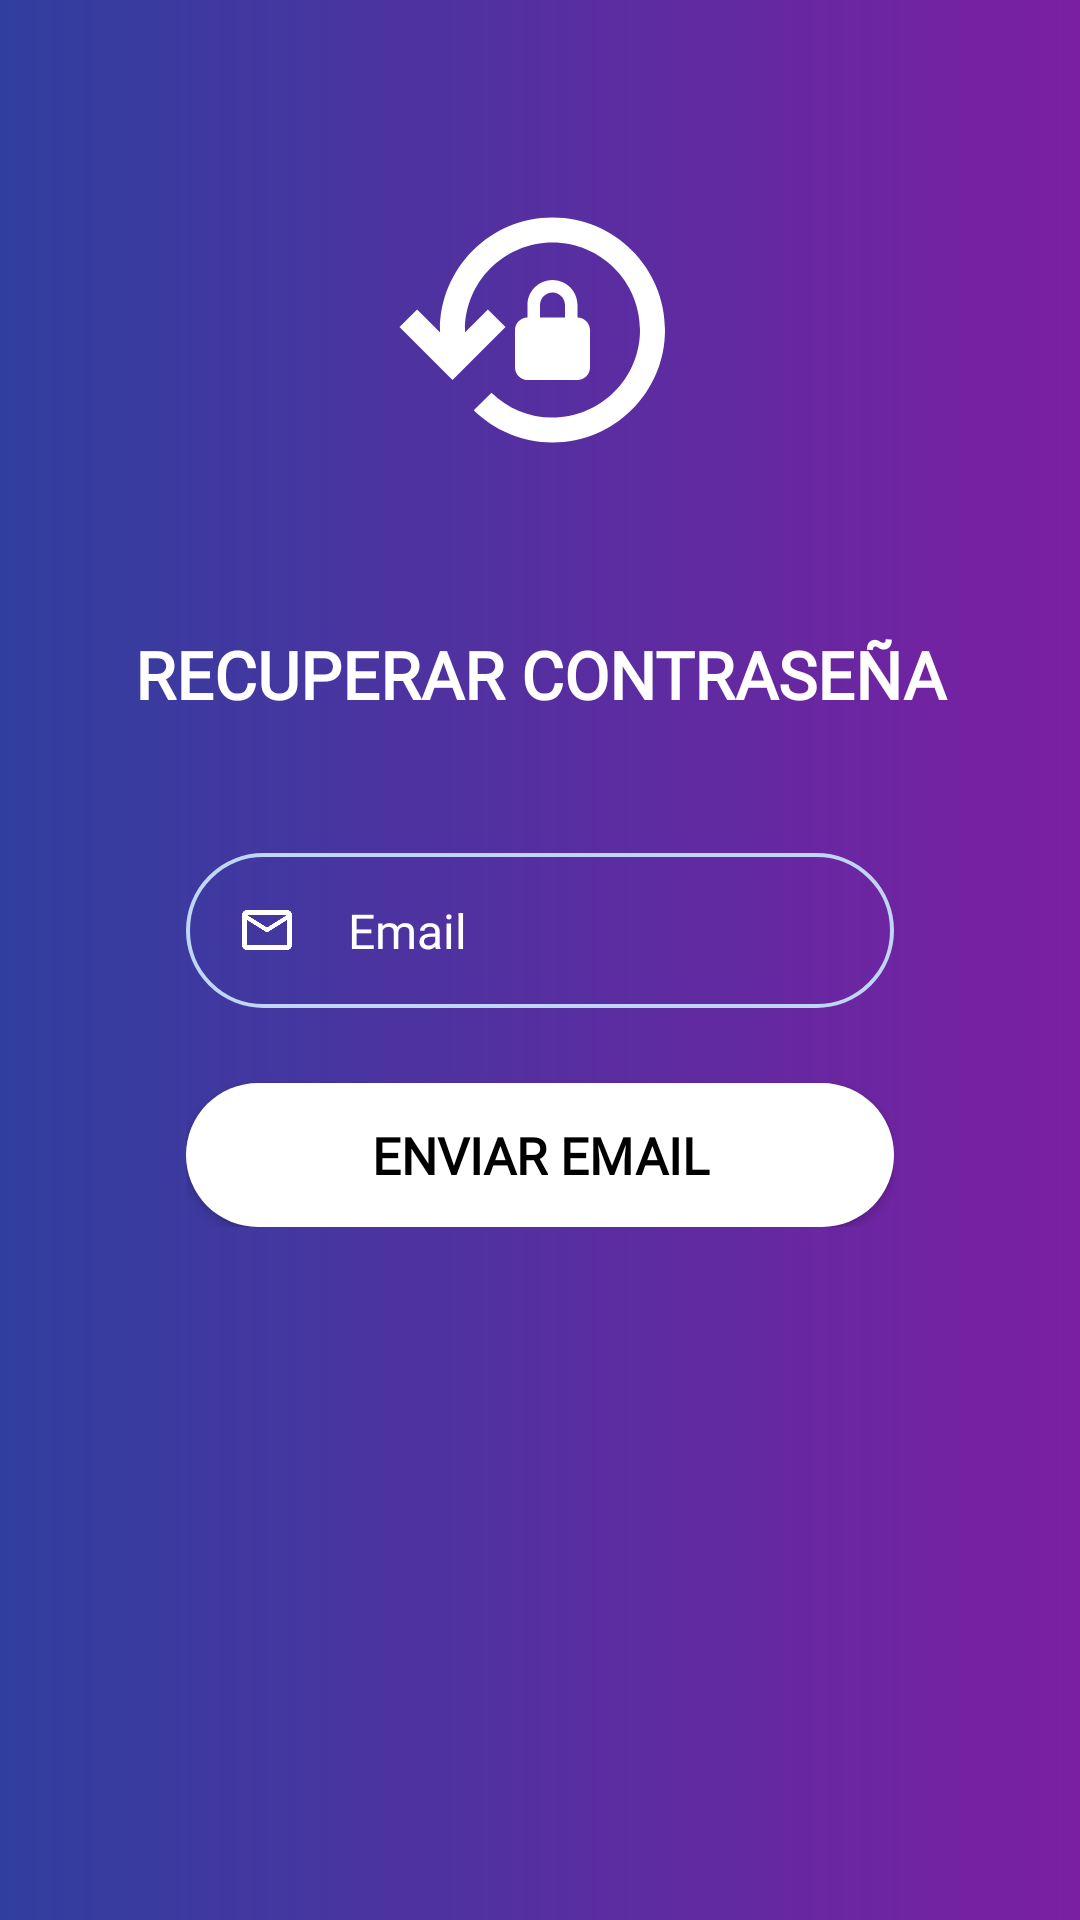

Icons on this 1080w x 1920h Android screen, each with the point to tap as (x,y):
forgot password: (532,330)
